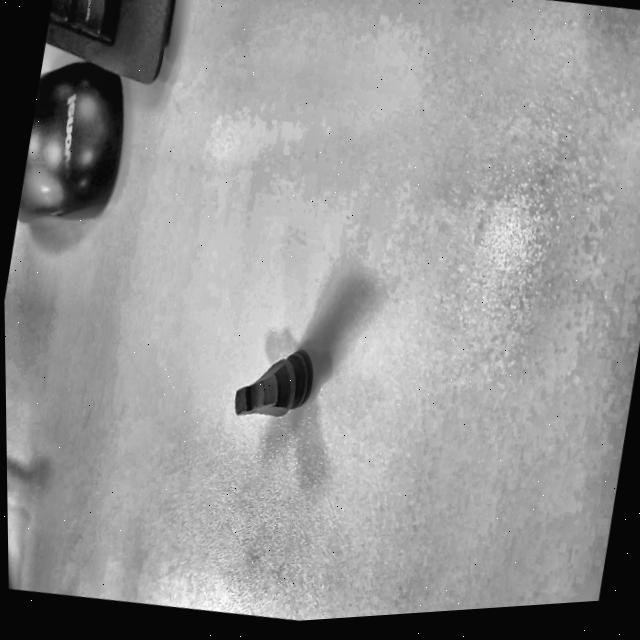black-knight: (224, 316, 330, 443)
